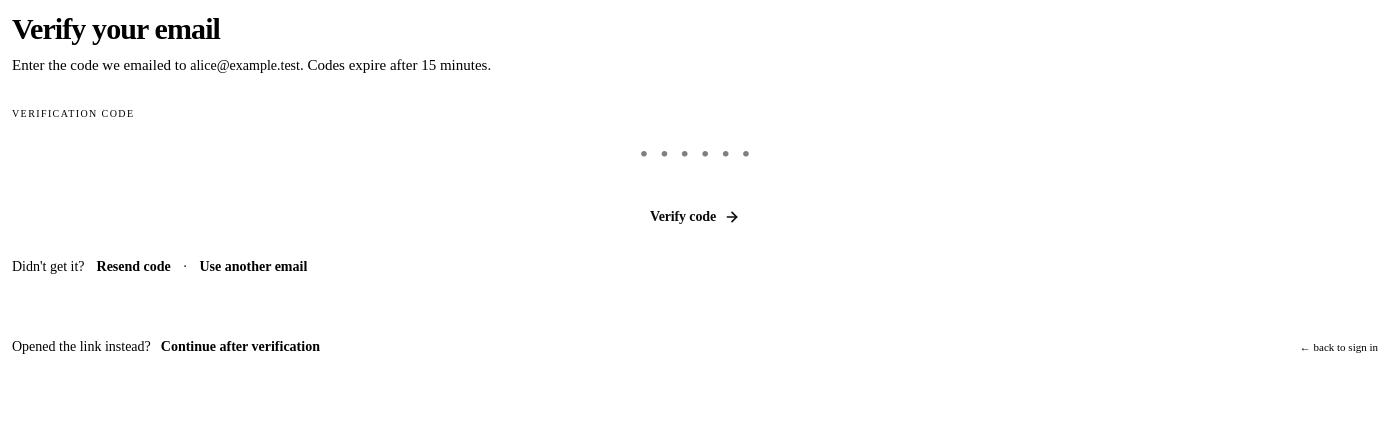
Test: auth forms › shows a rejected code without leaving the screen
The image size is (1390, 438).
Type "000000" into the field labelled "Verification code" at x=695, y=155, box [12, 127, 1378, 183]
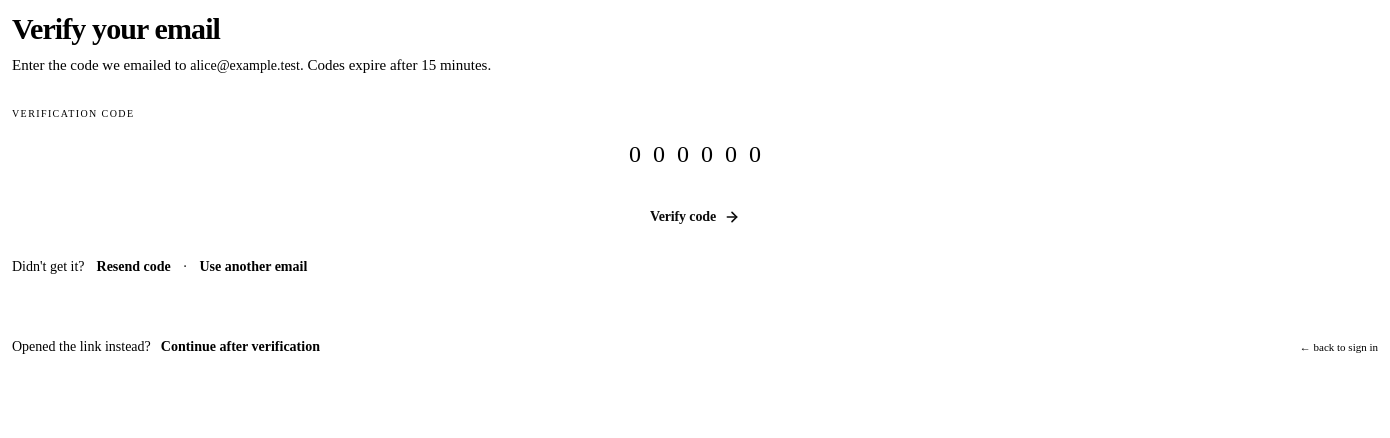
Click the button "Verify code" at x=695, y=217, box [12, 195, 1378, 239]
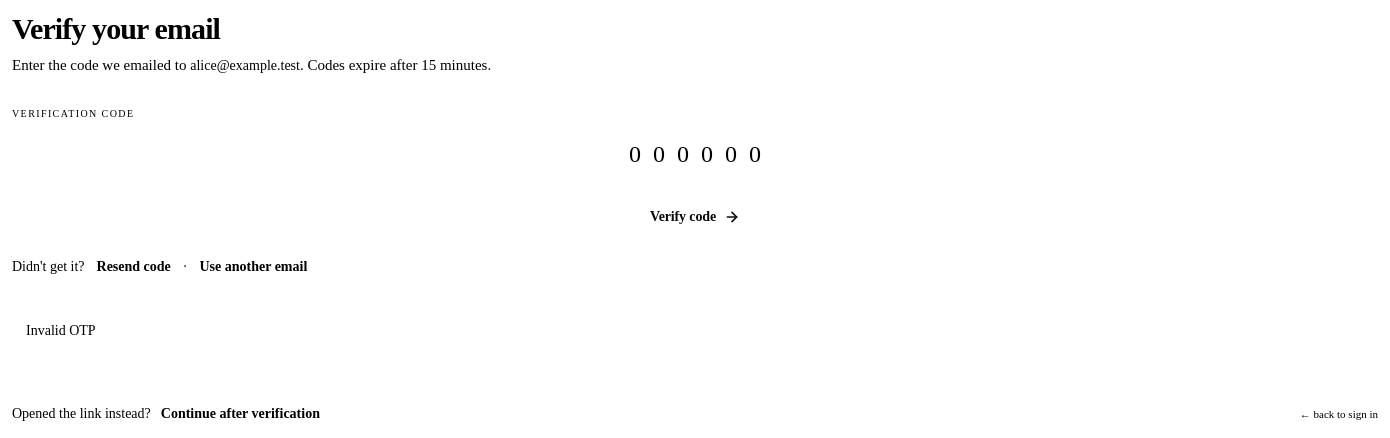
Expected: the text "Invalid OTP" is shown, [26, 323, 96, 338]
